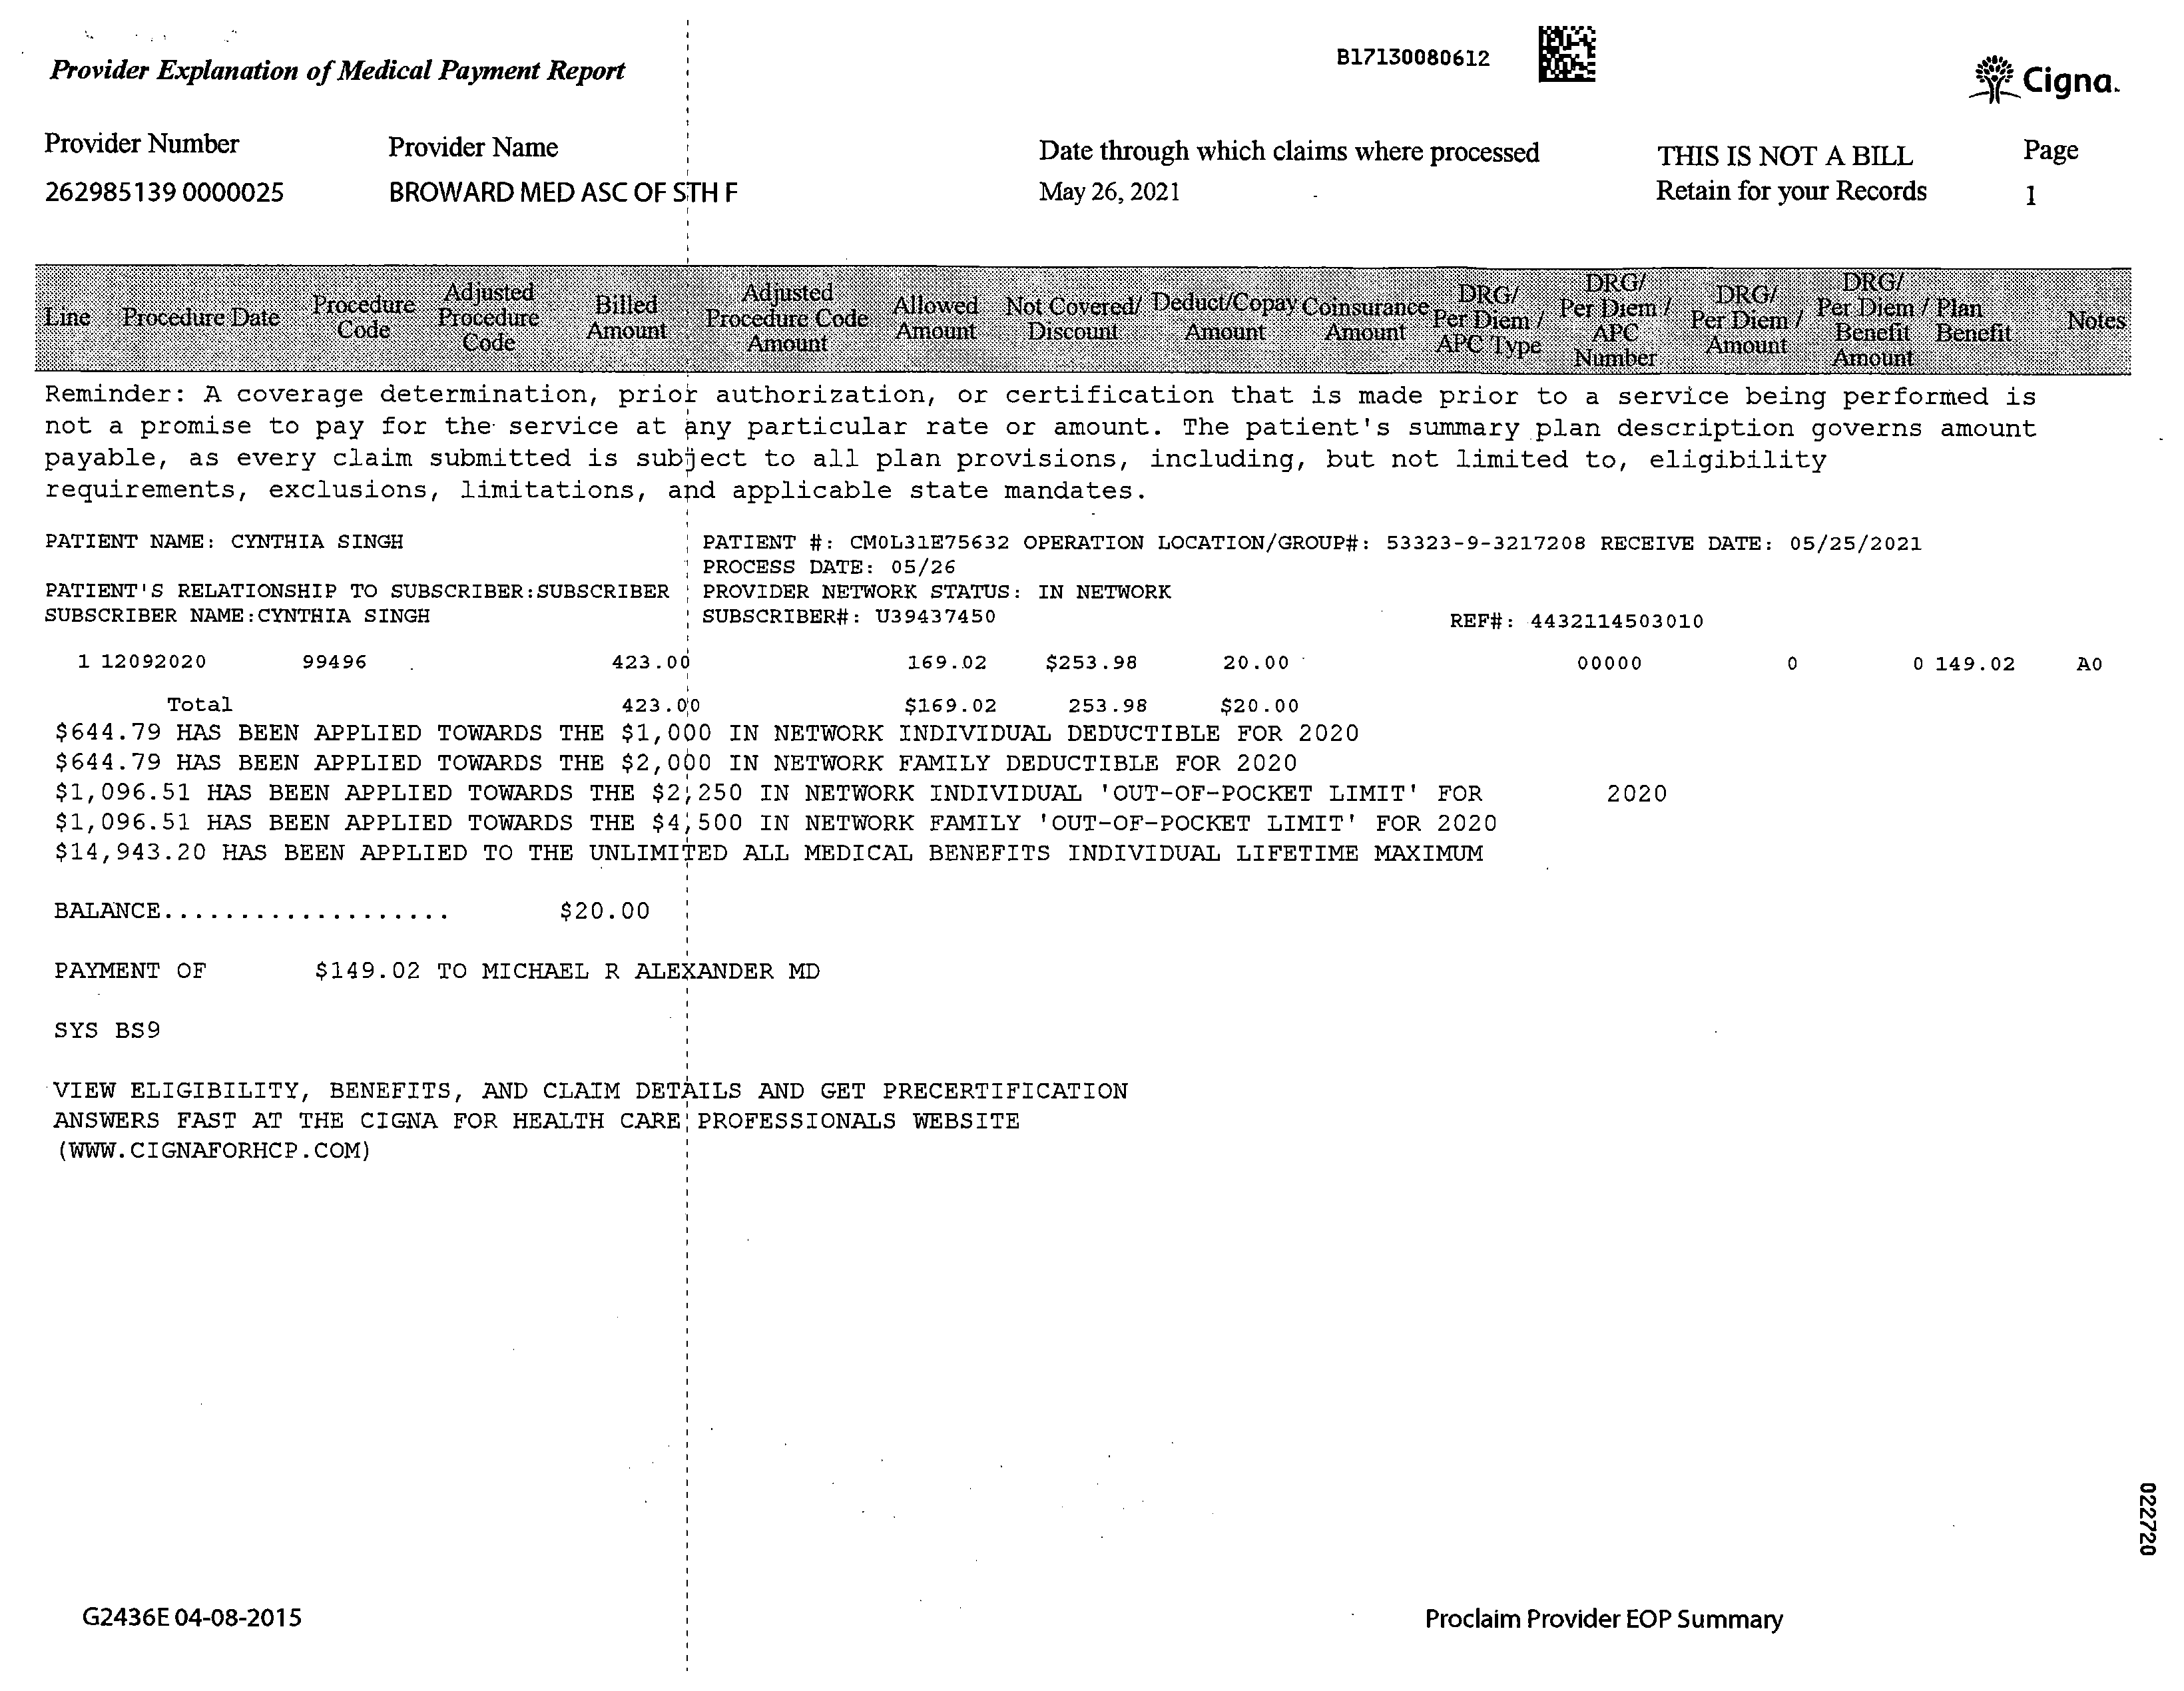data: (32, 115, 794, 232)
